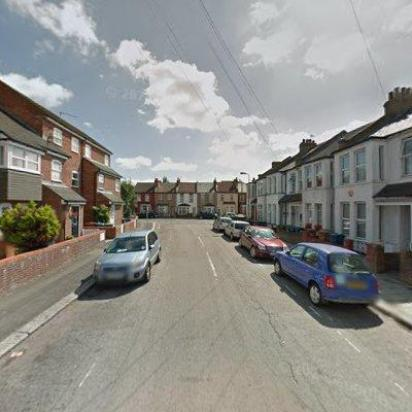stationary-car-onstreet: (271, 242, 381, 310), (91, 229, 162, 291), (237, 224, 287, 262), (224, 219, 250, 240), (212, 216, 230, 232)
